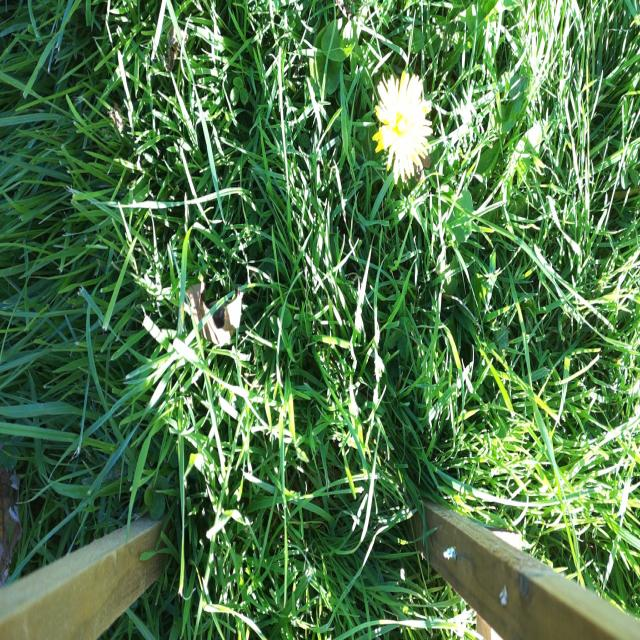flower: (375, 74, 431, 178)
